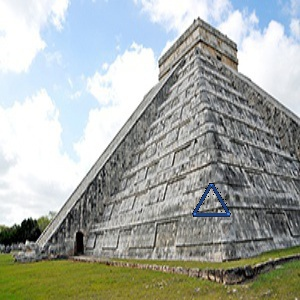triangle: (188, 180, 235, 220)
